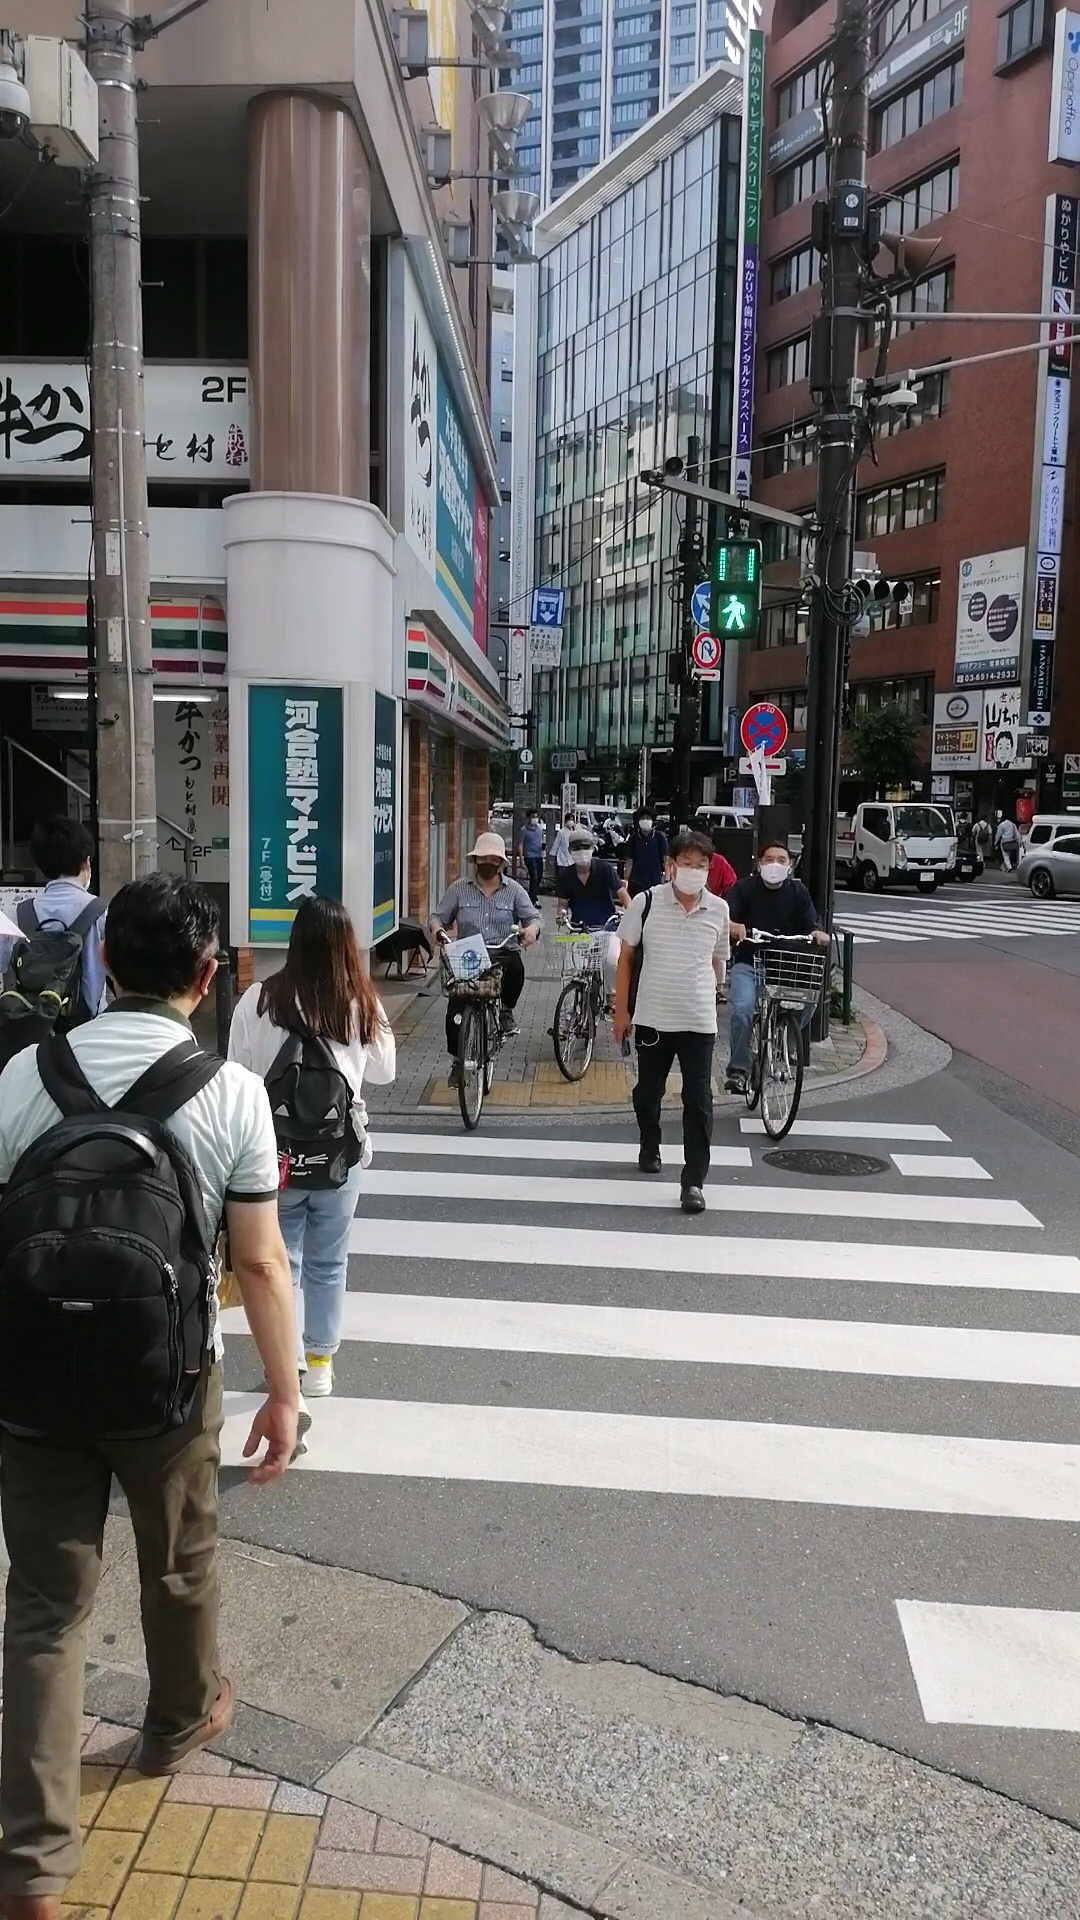green: (708, 538, 761, 642)
